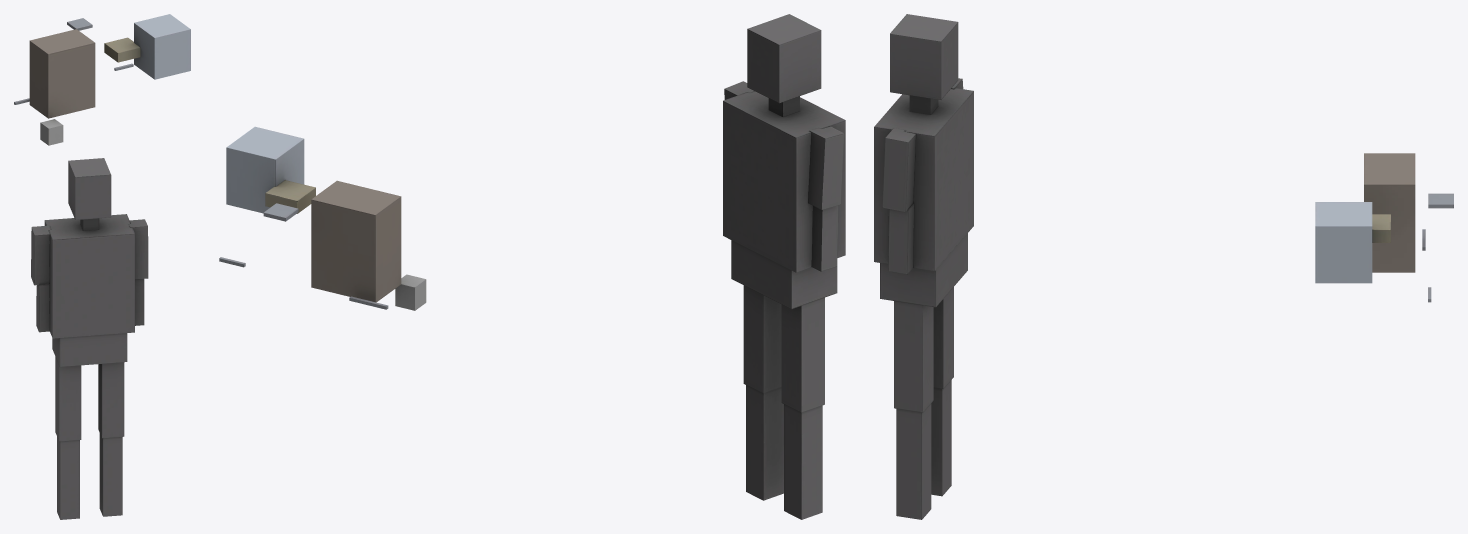
Rendered from coda_clock.glb.
3 renders of one model, left to right at view 1: azimuth 30°, elevation 25°; view 2: azimuth 150°, elevation 25°; view 3: azimuth 270°, elevation 25°, orthographic. The views are drawn at different scales.
Parts seen in each view (by area): view 1: CH_coda_clock_static, coda_clock_case, coda_clock_dome, coda_clock_movement, coda_clock_cup, coda_clock_mainspring; view 2: CH_coda_clock_static, coda_clock_case, coda_clock_dome, coda_clock_movement, coda_clock_cup; view 3: CH_coda_clock_static, coda_clock_case, coda_clock_dome.
Part boxes in pixels (x1=…): CH_coda_clock_static: x1=31, y1=158, x2=148, y2=519; coda_clock_case: x1=29, y1=29, x2=95, y2=118; coda_clock_dome: x1=134, y1=14, x2=190, y2=79; coda_clock_movement: x1=104, y1=37, x2=140, y2=62; coda_clock_cup: x1=40, y1=119, x2=63, y2=145; coda_clock_mainspring: x1=67, y1=18, x2=92, y2=30; CH_coda_clock_static: x1=723, y1=14, x2=845, y2=519; coda_clock_case: x1=311, y1=180, x2=401, y2=302; coda_clock_dome: x1=226, y1=126, x2=304, y2=213; coda_clock_movement: x1=265, y1=180, x2=315, y2=213; coda_clock_cup: x1=395, y1=274, x2=426, y2=310; CH_coda_clock_static: x1=874, y1=14, x2=973, y2=519; coda_clock_case: x1=1364, y1=153, x2=1415, y2=272; coda_clock_dome: x1=1315, y1=202, x2=1372, y2=283.
Bounding box in the file's own units: 1.62 × 1.83 × 2.03.
1 material, 1 textured.
